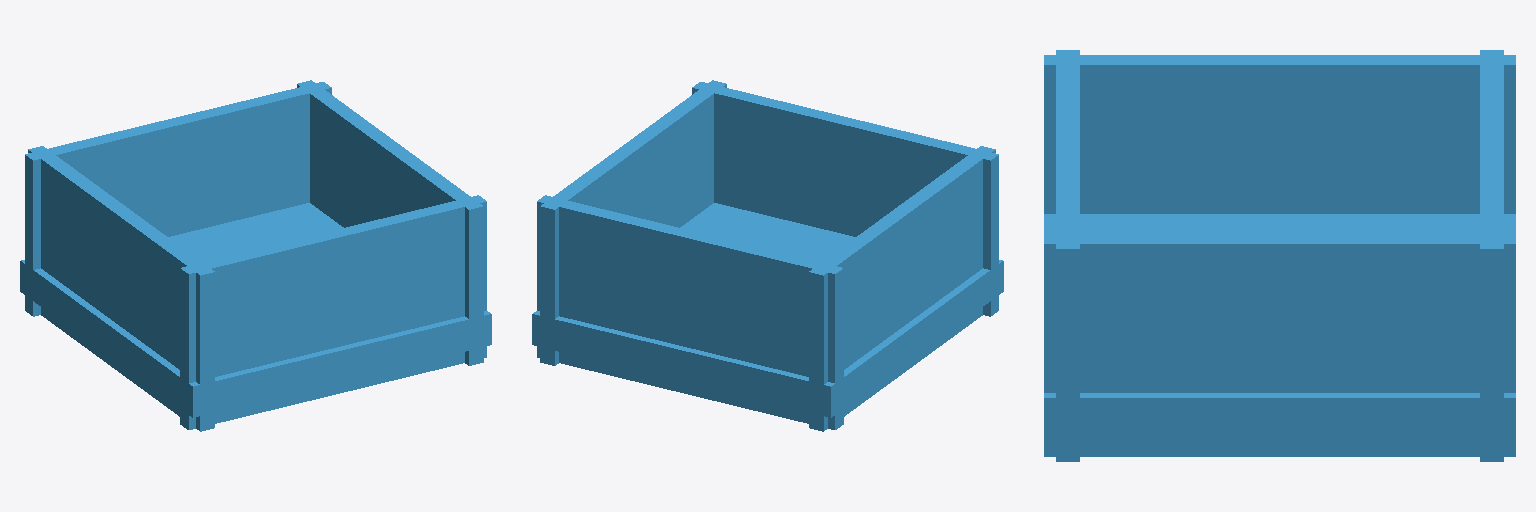
robot.urdf — bowl.urdf:
<?xml version="0.0" ?>
<robot name="bowl.urdf">

  <material name="yellow">
    <color rgba="1 1 0.4 1"/>
  </material>
  <material name="red">
    <color rgba="1 0 0 1"/>
  </material>
  <material name="blue">
    <color rgba=".17 .20 .38 1"/>
  </material>
  <material name="teal">
    <color rgba="0 .5 .5 1"/>
  </material>
  <material name="orange">
    <color rgba=".93 .6 .23 1"/>
  </material>

  <link name="world"/>

  <link name="base">
    <inertial>
      <origin rpy="0 0 0" xyz="0.0 0.0 0.0"/>
       <mass value=".1"/>
       <inertia ixx="1" ixy="0" ixz="0" iyy="1" iyz="0" izz="1"/>
    </inertial>
    <!-- <visual>
      <origin rpy="0 0 0" xyz="0 0 0"/>
      <geometry>
        <box size="1 1 0.5"/> -->
        <!-- <mesh filename="roboverse/envs/assets/objects/box/box.dae" scale="[phone redacted]"/> -->
      <!-- </geometry>
      <material name="teal"/>
    </visual> -->
    <visual>
      <!-- bottom -->
      <origin rpy="0 0 0" xyz="0 0 -0.15"/>
      <geometry>
        <box size="1 1 .1"/>
      </geometry>
    </visual>
    <visual>
      <!-- right -->
      <origin rpy="0 0 0" xyz="0 -.45 0"/>
      <geometry>
        <box size="1 .05 .5"/>
      </geometry>
    </visual>
    <visual>
      <!-- left -->
      <origin rpy="0 0 0" xyz="0 .45 0"/>
      <geometry>
        <box size="1 .05 .5"/>
      </geometry>
    </visual>
    <visual>
      <!-- front -->
      <origin rpy="0 0 0" xyz=".45 0 0"/>
      <geometry>
        <box size=".05 1 .5"/>
      </geometry>
    </visual>
    <visual>
      <!-- back -->
      <origin rpy="0 0 0" xyz="-.45 0 0"/>
      <geometry>
        <box size=".05 1 .5"/>
      </geometry>
    </visual>
    <collision>
      <origin rpy="0 0 0" xyz="0 0 -.3"/>
      <geometry>
        <box size="1.2 1.2 .1"/>
      </geometry>
    </collision>
    <collision>
      <!-- right -->
      <origin rpy="0 0 0" xyz="0 -.45 0"/>
      <geometry>
        <box size="1 .05 .5"/>
      </geometry>
    </collision>
    <collision>
      <!-- left -->
      <origin rpy="0 0 0" xyz="0 .45 0"/>
      <geometry>
        <box size="1 .05 .5"/>
      </geometry>
    </collision>
    <collision>
      <!-- front -->
      <origin rpy="0 0 0" xyz=".45 0 0"/>
      <geometry>
        <box size=".05 1 .5"/>
      </geometry>
    </collision>
    <collision>
      <!-- back -->
      <origin rpy="0 0 0" xyz="-.45 0 0"/>
      <geometry>
        <box size=".05 1 .5"/>
      </geometry>
    </collision>
  </link>

  <joint name="base_joint" type="fixed">
    <parent link="world"/>
    <child link="base"/>
  </joint>

</robot>

--- Facts derived from the render (not from the file) ---
Views: 3 orthographic renders of the robot side by side, from view 1: azimuth 30°, elevation 25°; view 2: azimuth 150°, elevation 25°; view 3: azimuth 270°, elevation 25°.
Robot: bowl.urdf — 2 links, 1 joints (1 fixed); root link world; default pose: every joint at zero.
Visible links, largest first — view 1: base; view 2: base; view 3: base.
Boxes of the visible links, x1,y1,x2,y2 form: base: [20, 80, 491, 431]; base: [532, 80, 1003, 431]; base: [1044, 50, 1515, 461].
Size in the robot's own frame: 1 by 1 by 0.5 metres.
Geometry: primitives only (box / cylinder / sphere), no mesh files.